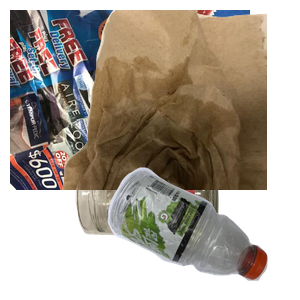glass: (73, 153, 284, 300)
paper: (10, 10, 250, 190)
plastic: (105, 165, 300, 300)
trash: (60, 10, 300, 190)
